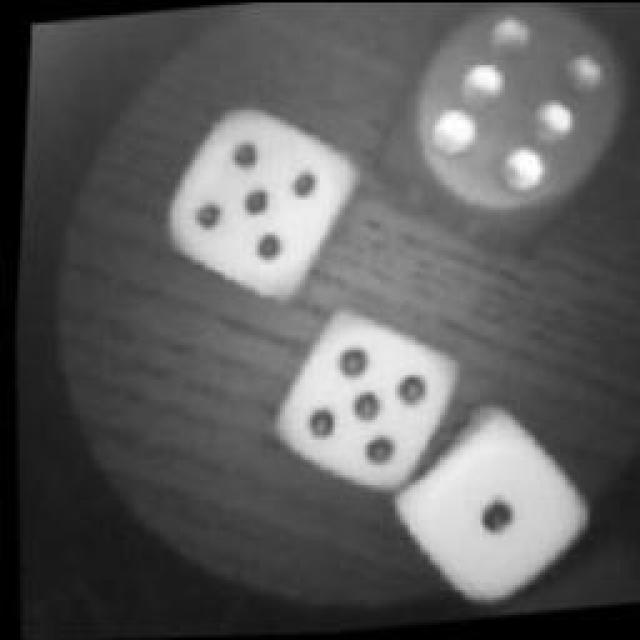dice_1: (380, 396, 600, 619)
dice_5: (144, 86, 374, 316), (258, 299, 470, 511)
dice_6: (347, 0, 640, 262)
